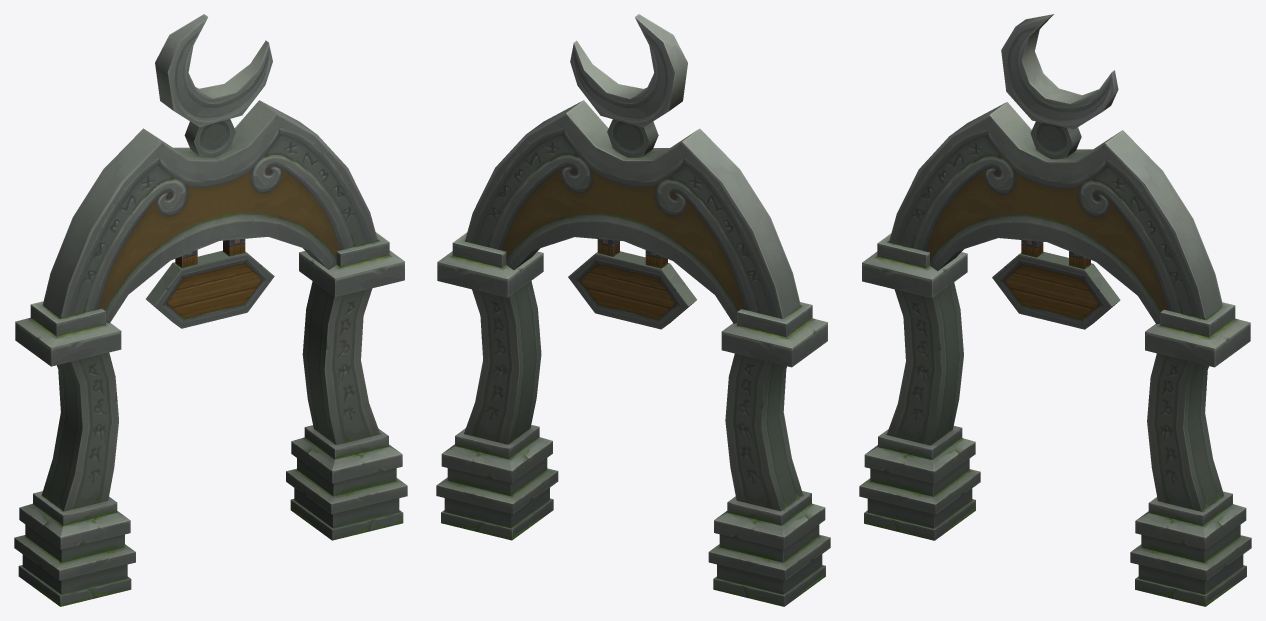
File: scene_lawennushandao_shimen.FBX
3 views of the same model, side by side, from view 1: azimuth 30°, elevation 25°; view 2: azimuth 150°, elevation 25°; view 3: azimuth 330°, elevation 25° (orthographic).
Parts seen in each view (by area): view 1: scene_lawennushandao_shimen; view 2: scene_lawennushandao_shimen; view 3: scene_lawennushandao_shimen.
Part boxes in pixels (box(x1,y1,x2,y2)): scene_lawennushandao_shimen: box(14, 14, 407, 606); scene_lawennushandao_shimen: box(436, 14, 830, 606); scene_lawennushandao_shimen: box(859, 14, 1251, 606).
Bounding box in the file's own units: 474 × 684 × 105.
